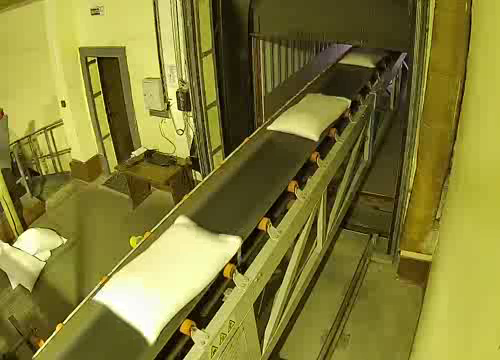bag: (90, 213, 249, 348), (264, 88, 358, 144), (334, 46, 392, 68)
